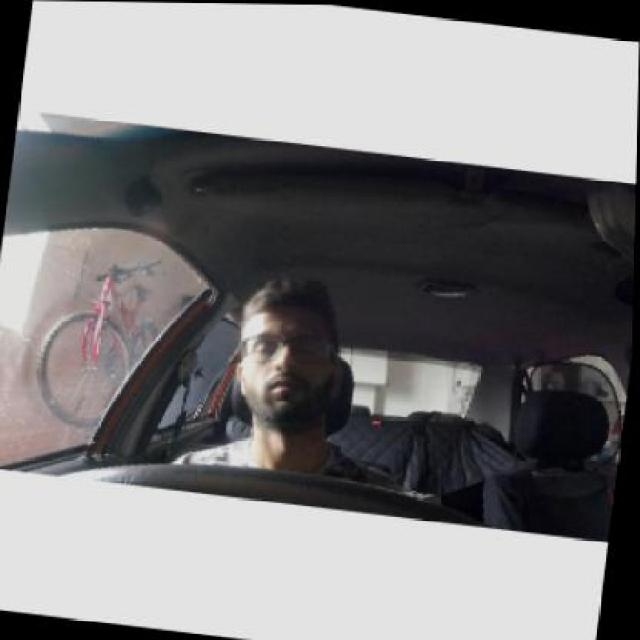drowsy: (228, 287, 350, 427)
